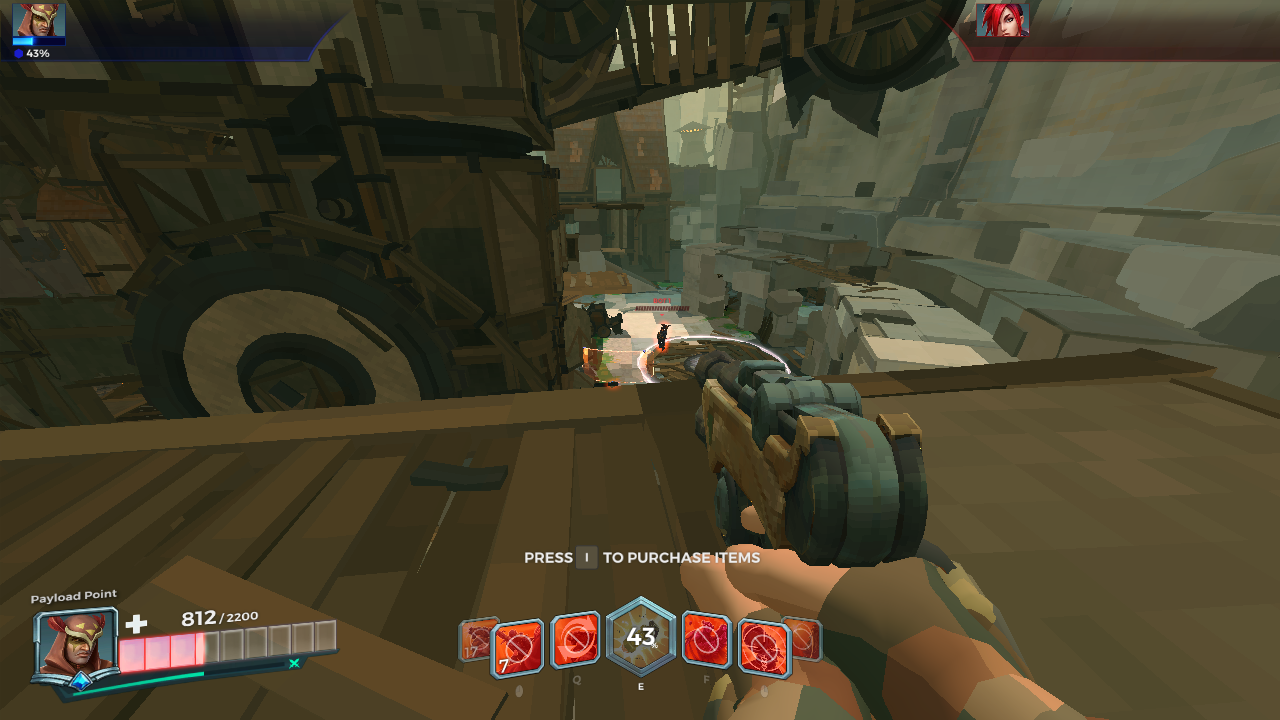model: (658, 322, 666, 358)
